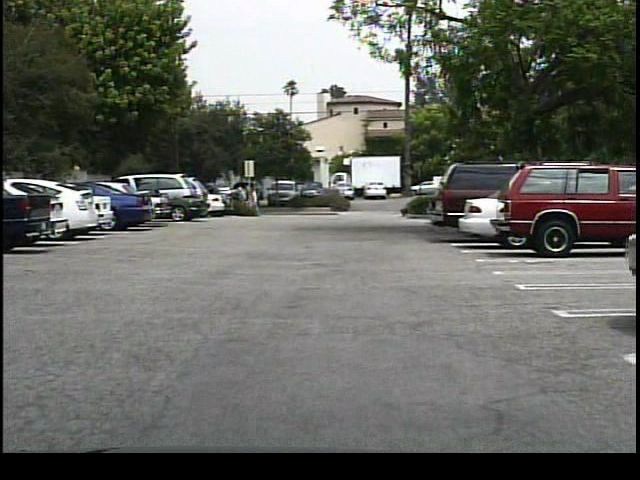person: (233, 184, 249, 214), (248, 185, 262, 215), (245, 185, 257, 216)
